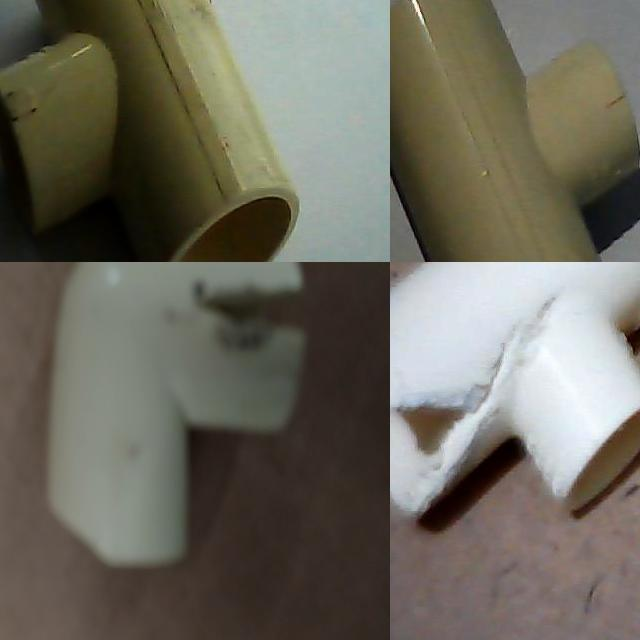Defective: (390, 363, 487, 515)
L Joint: (0, 262, 176, 552)
T Joint: (0, 0, 300, 262), (390, 0, 640, 262), (390, 262, 640, 524)
